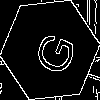G: (25, 25, 78, 79)
